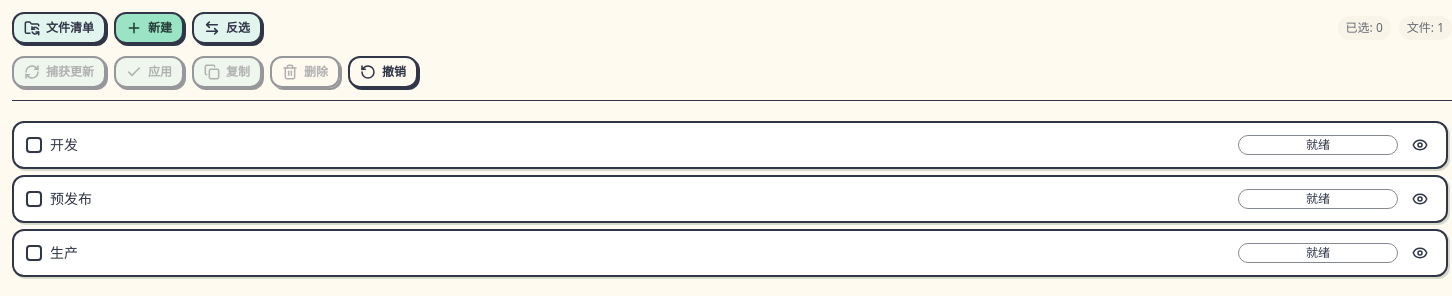
EnvironmentWorkspace › keeps selected environments and available actions in sync
The image size is (1452, 296).
Expected: the button "捕获更新" is disabled, [12,56,106,88]
Expected: the button "应用" is disabled, [114,56,184,88]
Click the checkbox named "选择环境 开发": (34, 145) [26,137,42,153]
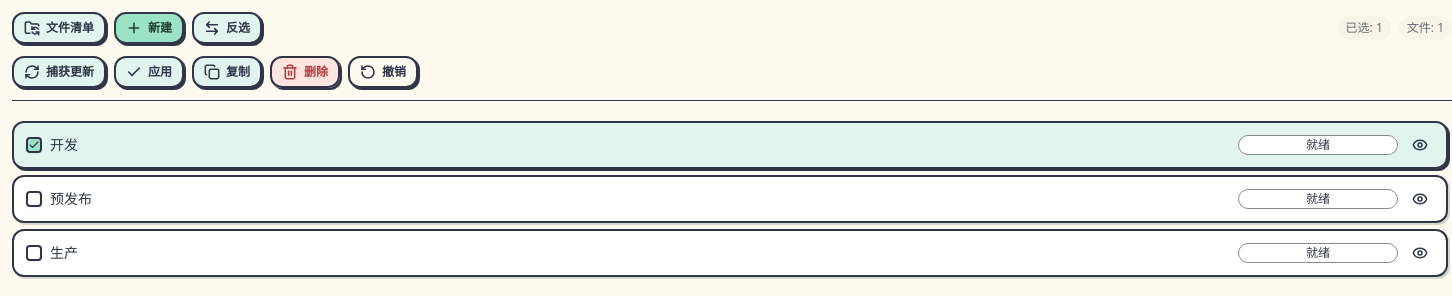
Expected: the checkbox named "选择环境 开发" is checked, [26,137,42,153]
Expected: the button "捕获更新" is enabled, [12,56,106,88]
Expected: the button "应用" is enabled, [114,56,184,88]
Click the checkbox named "选择环境 预发布": (34, 199) [26,191,42,207]
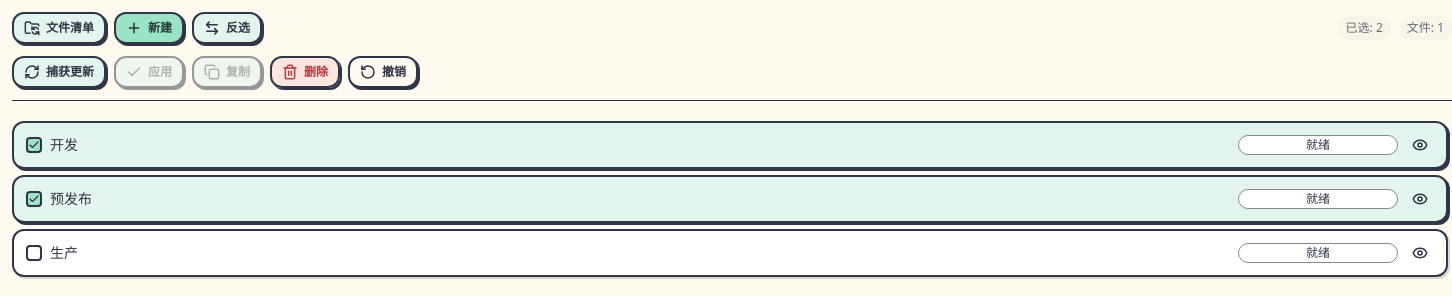
Expected: the checkbox named "选择环境 预发布" is checked, [26,191,42,207]
Expected: the button "应用" is disabled, [114,56,184,88]
Expected: the button "复制" is disabled, [192,56,262,88]
